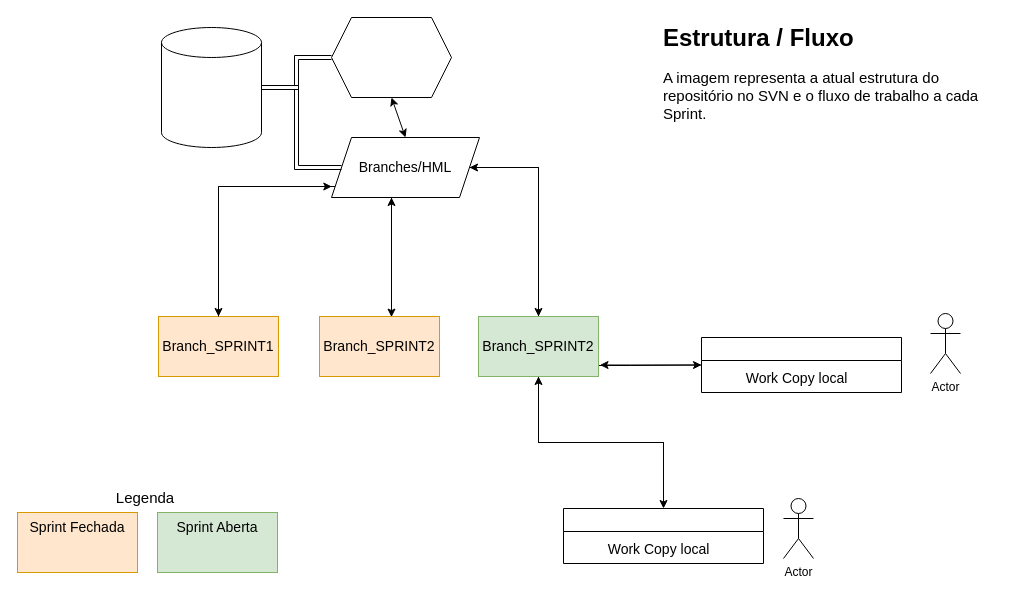
Image size: 1021x597. Some labels were removed from this diagram. Here are the shapes that lost their labels. From the top down, the box of each, then its label:
(330, 16, 452, 98): Trunk/PRD
(160, 26, 262, 148): Repo Sistema XPTO
(700, 336, 902, 392): WC - DEV1
(562, 508, 764, 564): WC - DEV2
